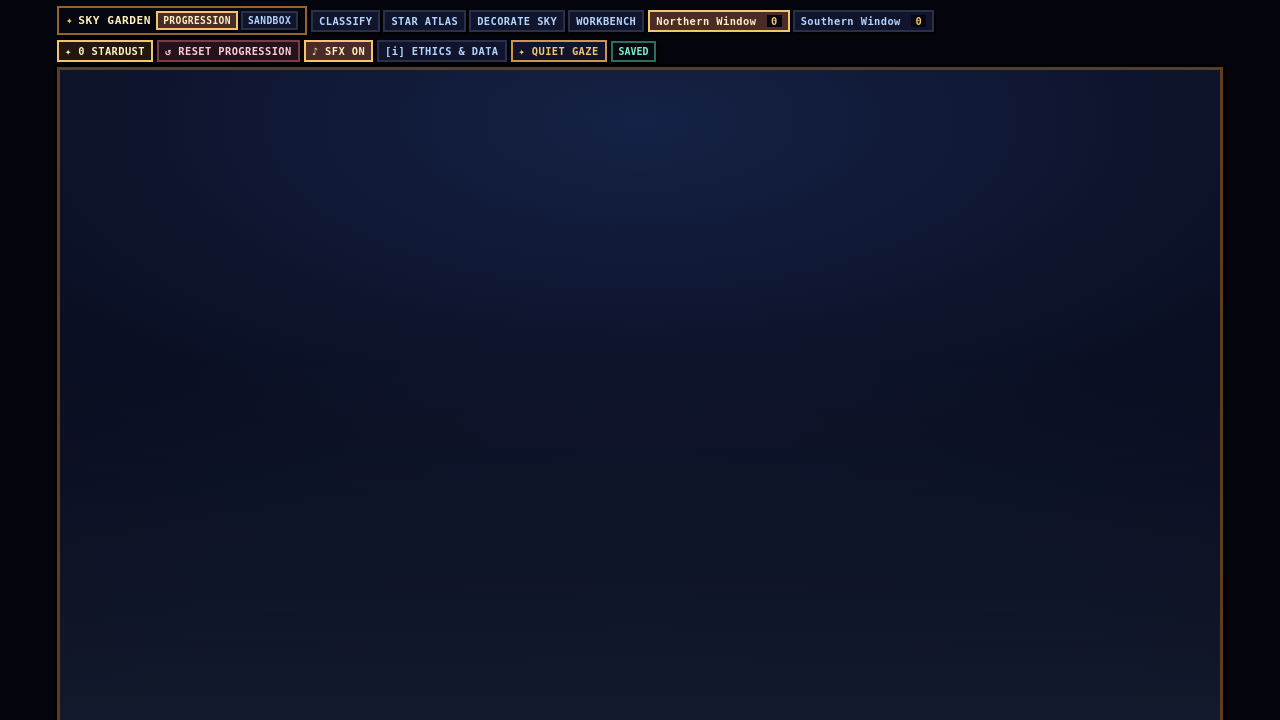
Scenario: Sky Garden Side-On Pixel Observatory Prototype › displays verified J2000 coordinates in the Star Atlas and withholds unavailable or unverified coordinates
This screenshot has width=1280, height=720.
Click the button with test id "mode-sandbox-btn" at (269, 20), box x1=241 y1=11 x2=298 y2=30
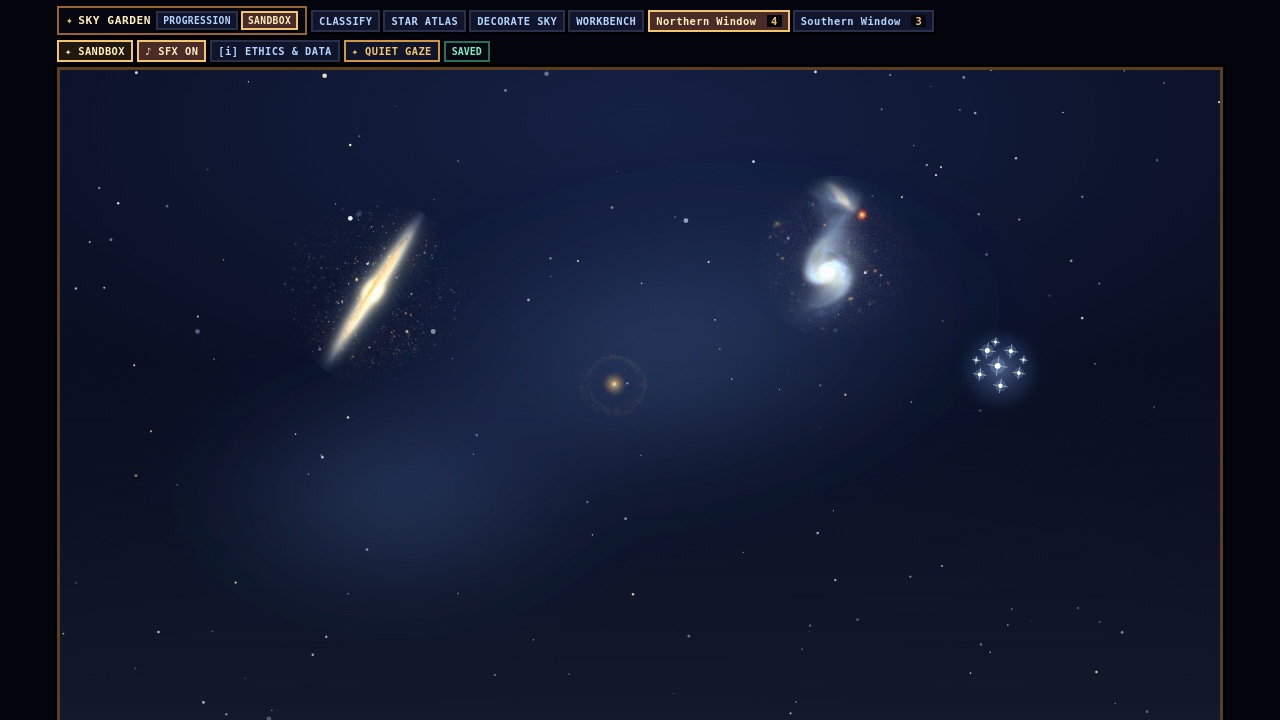
Click the button "STAR ATLAS" at (425, 20), box x1=383 y1=10 x2=466 y2=32
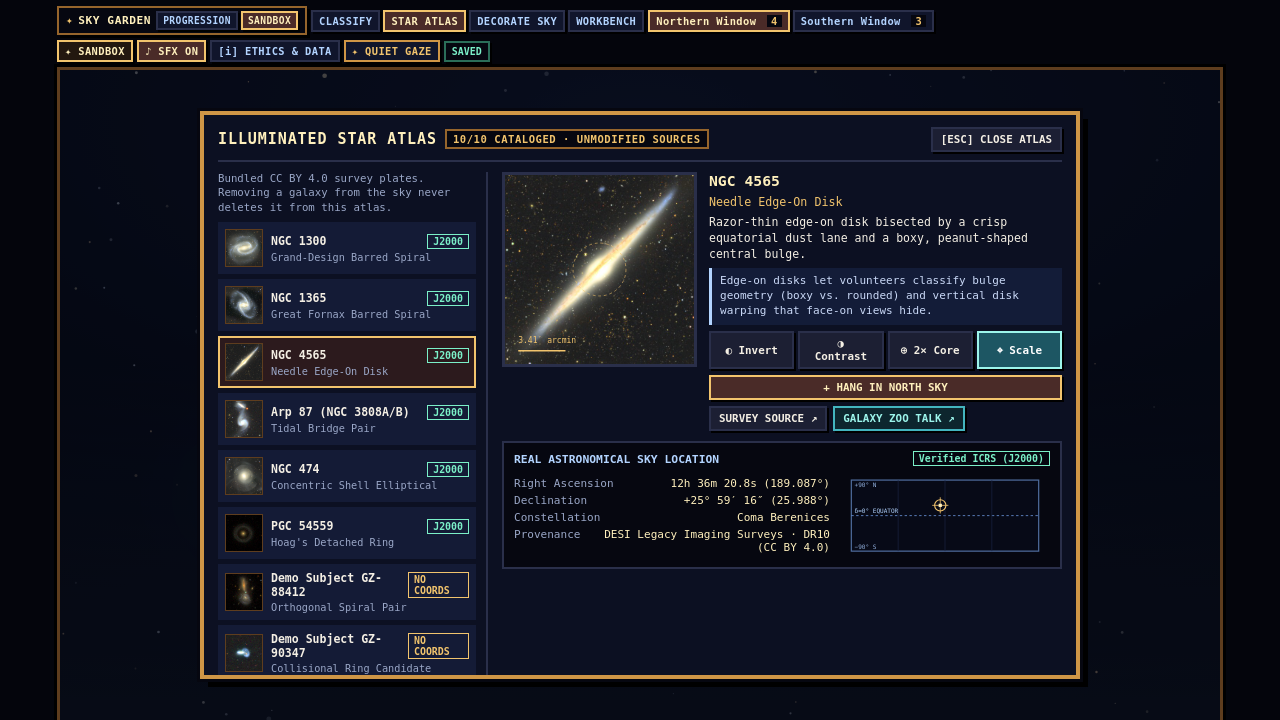
Click the list item with test id "collection-card-src-ngc-1300" at (347, 248), box x1=218 y1=222 x2=476 y2=274
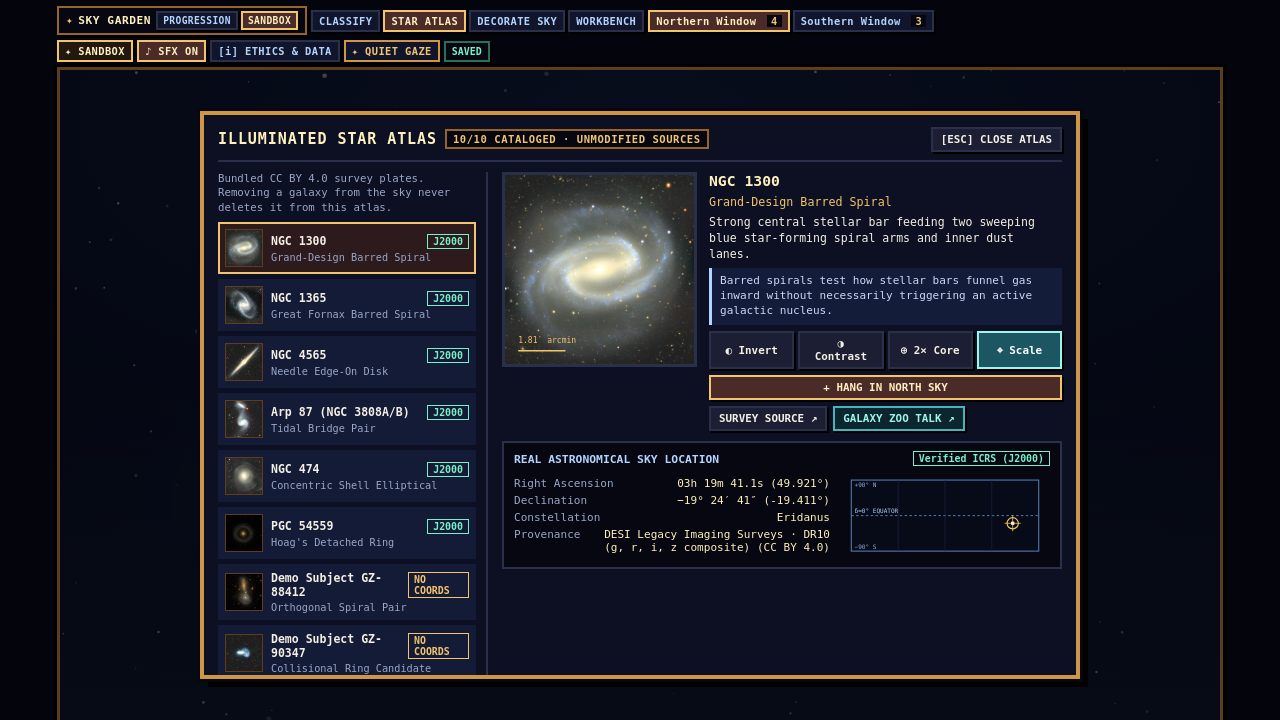
Expected: the element with test id "real-coordinates-box" shows "Verified ICRS (J2000)", x1=502 y1=441 x2=1062 y2=569
Expected: the element with test id "real-coordinates-box" shows "03h 19m 41.1s", x1=677 y1=477 x2=764 y2=490
Expected: the element with test id "real-coordinates-box" shows "Eridanus", x1=777 y1=511 x2=830 y2=524
Click the list item with test id "collection-card-src-subject-alpha" at (347, 592), box x1=218 y1=564 x2=476 y2=620
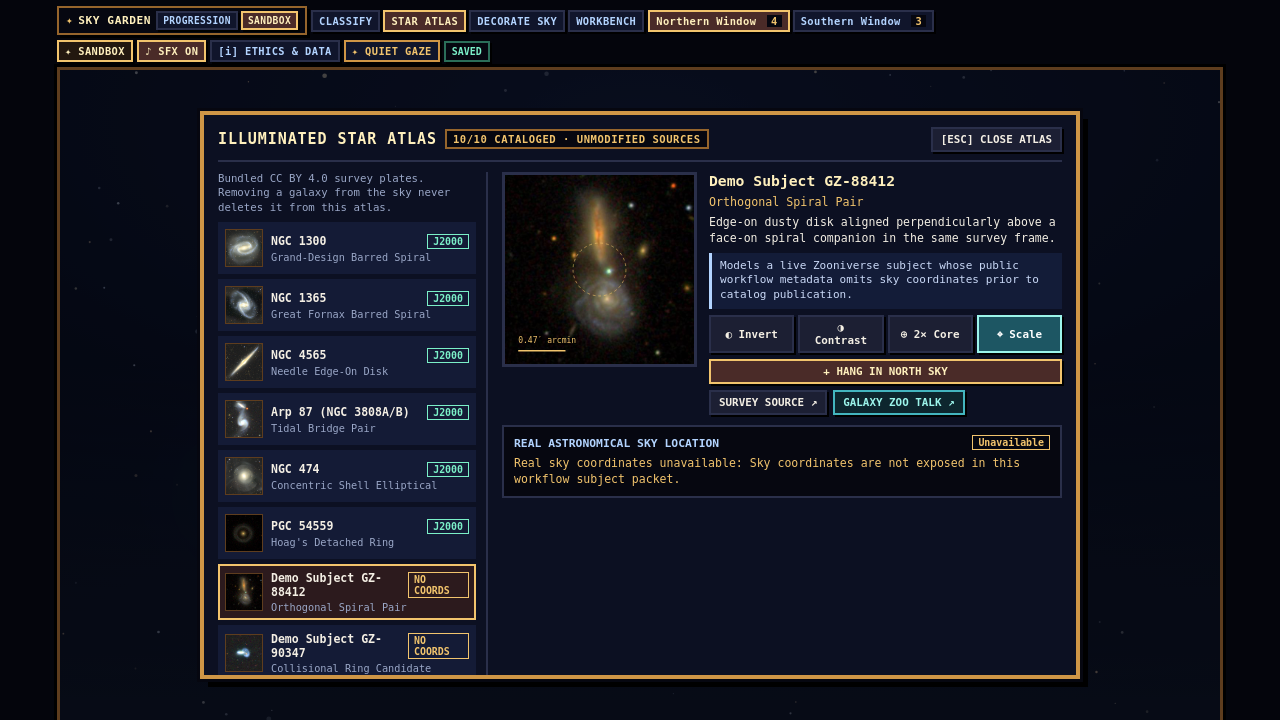
Expected: the element with test id "real-coordinates-box" shows "Real sky coordinates unavailable: Sky coordinates are not exposed", x1=502 y1=425 x2=1062 y2=498
Click the list item with test id "collection-card-src-subject-beta" at (347, 653), box x1=218 y1=625 x2=476 y2=681
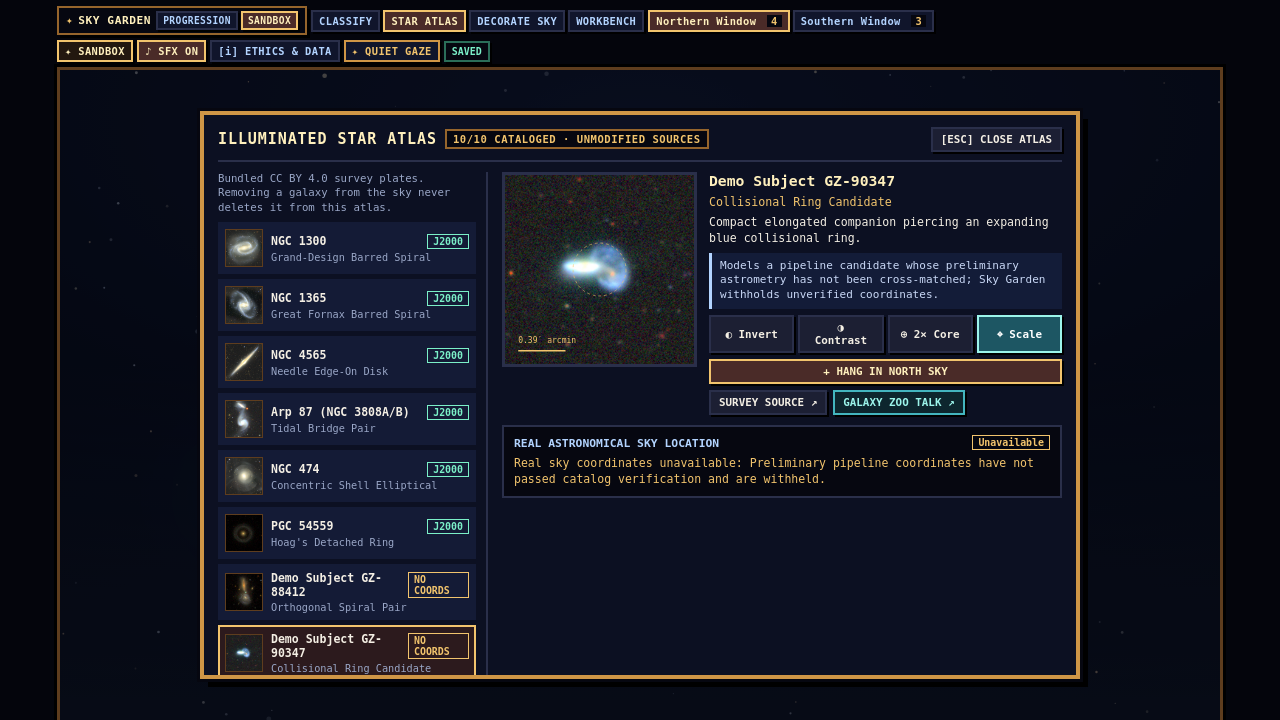
Expected: the element with test id "real-coordinates-box" shows "Real sky coordinates unavailable: Preliminary pipeline coordinates have not passed catalog verification", x1=502 y1=425 x2=1062 y2=498
